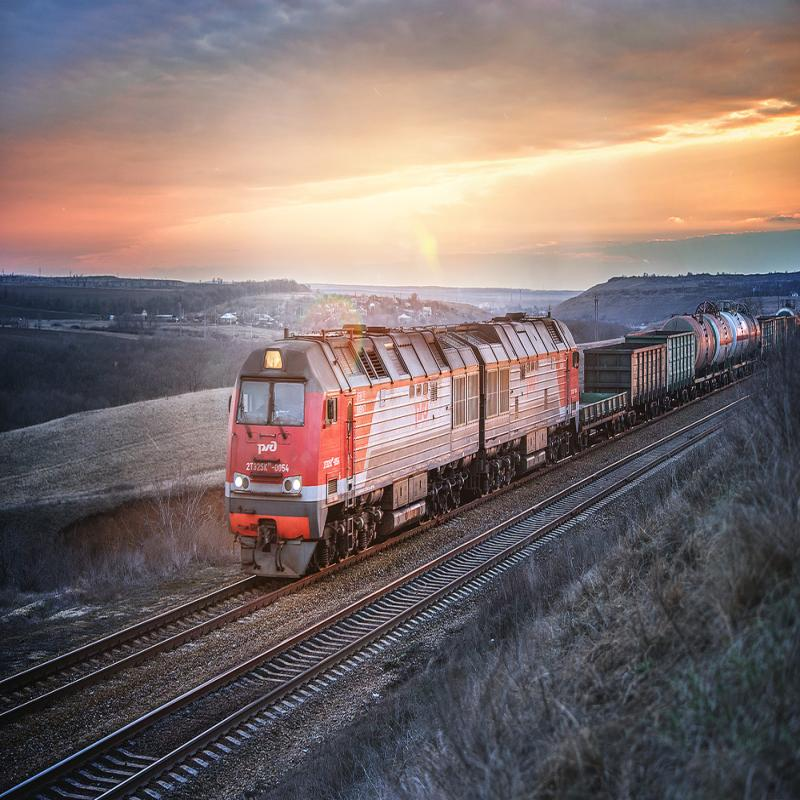train: (203, 276, 488, 579), (467, 284, 592, 488), (577, 300, 699, 449), (694, 292, 767, 383)
